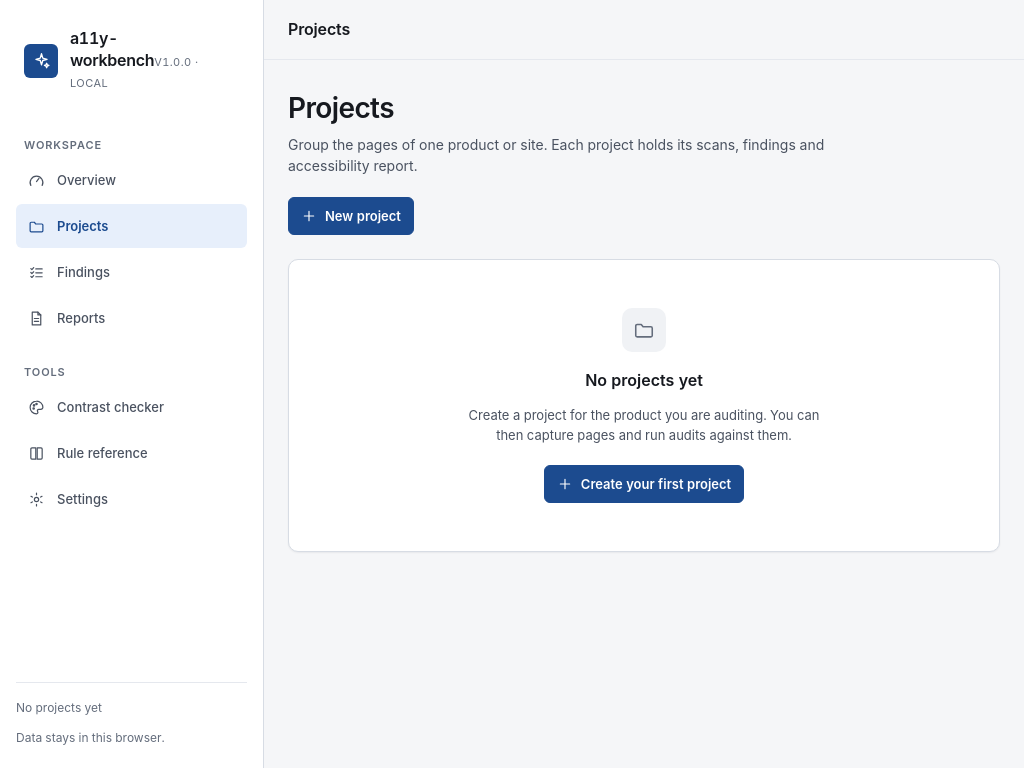
it: create project → capture → findings › creates a project and shows it in the list
The image size is (1024, 768).
Click the button "Create your first project". click: (644, 484)
box: [544,465,744,503]
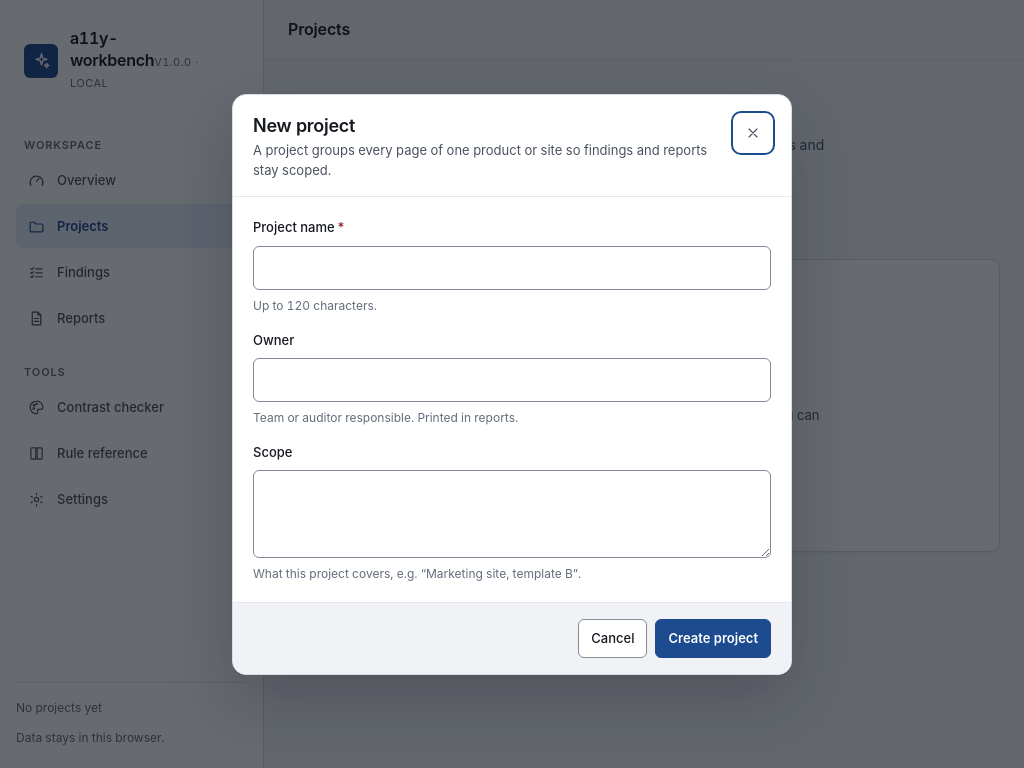
Type "Acme Store" into the field labelled "Project name*". click: (512, 268)
box: [253,246,771,290]
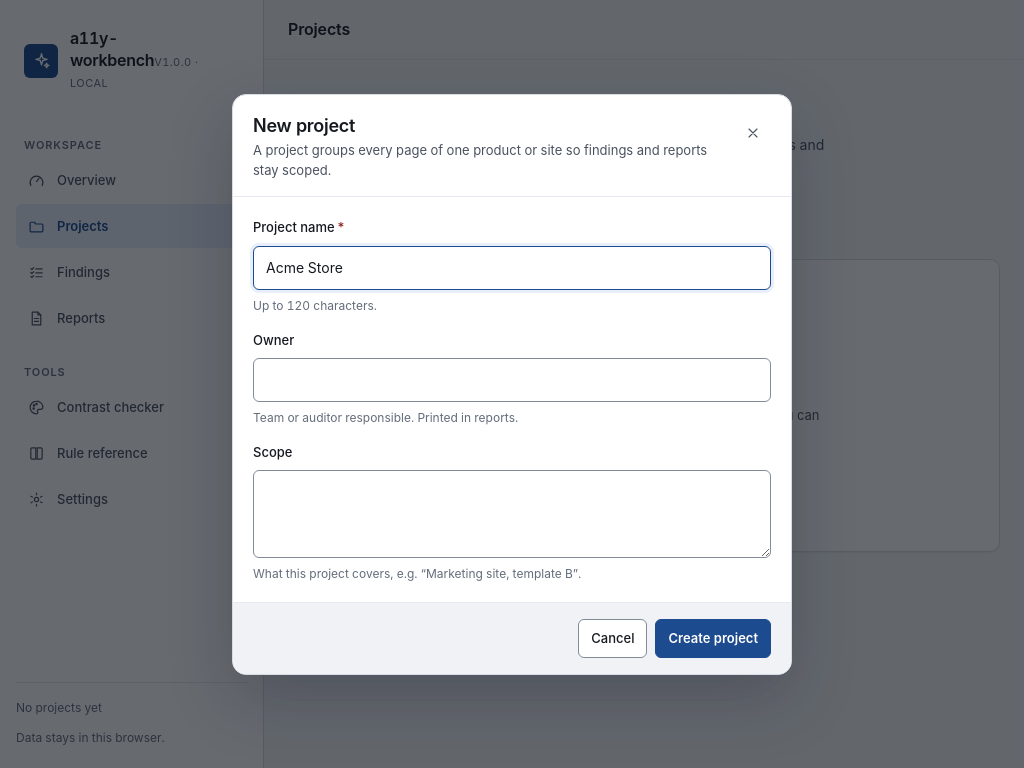
Type "QA team" into the field labelled "Owner". click: (512, 380)
box: [253,358,771,402]
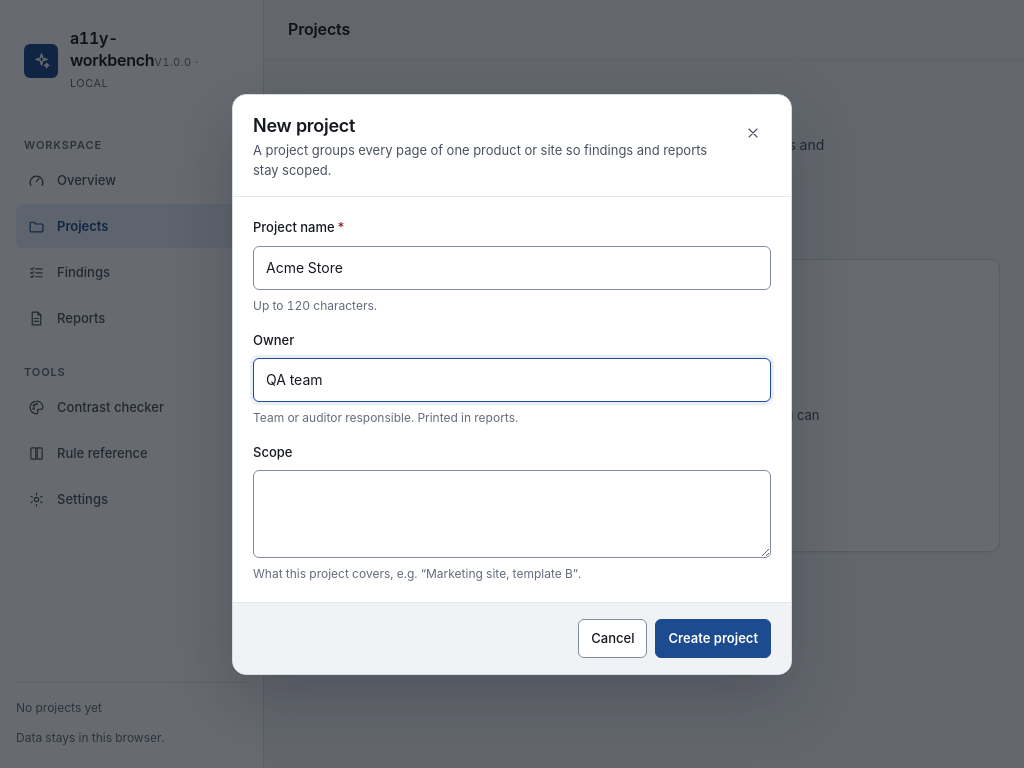
Click the button "Create project". click: (713, 638)
box: [656,619,771,658]
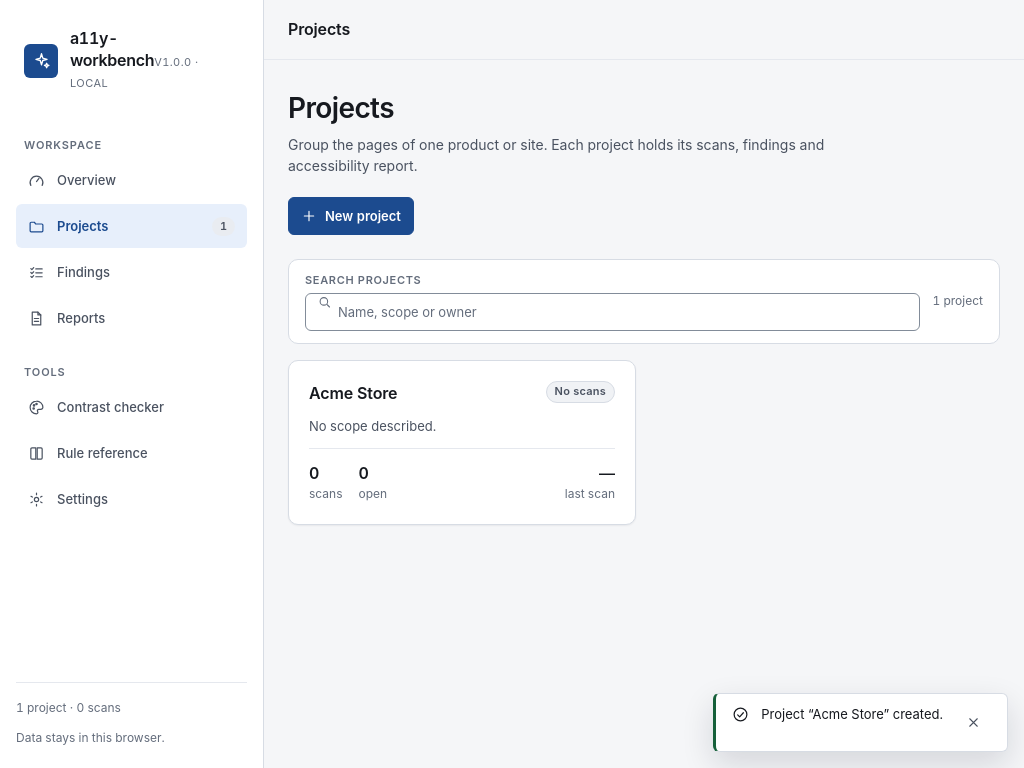
Check: the text "Acme Store" is shown, box [309,381,397,406]
Check: the text "No scans" is shown, box [546,381,615,403]
